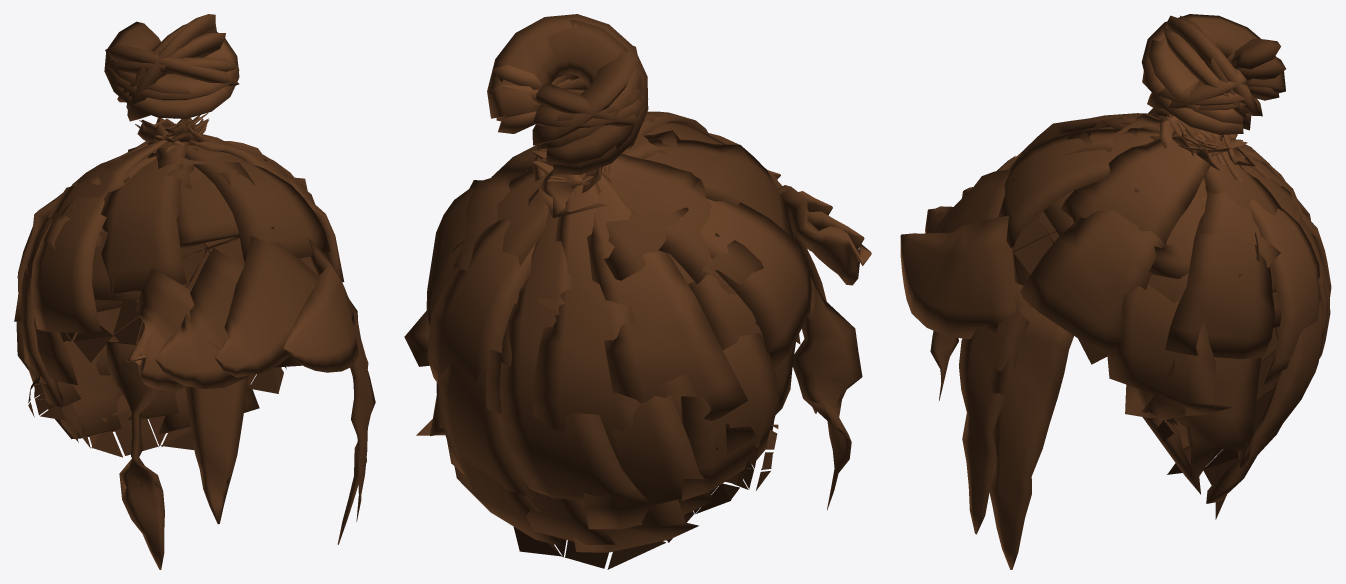
The model's file is kopf.haar.dutt_hoch.glb.
3 renders of one model, left to right at view 1: azimuth 30°, elevation 25°; view 2: azimuth 150°, elevation 25°; view 3: azimuth 270°, elevation 25°, orthographic. The views are drawn at different scales.
Visible parts, largest first — view 1: haar; view 2: haar; view 3: haar.
Boxes of the visible parts, bbox=[...] form: haar: bbox=[14, 14, 375, 569]; haar: bbox=[404, 14, 871, 569]; haar: bbox=[900, 14, 1331, 569].
Bounding box in the file's own units: 0.1942 × 0.3005 × 0.2272.
